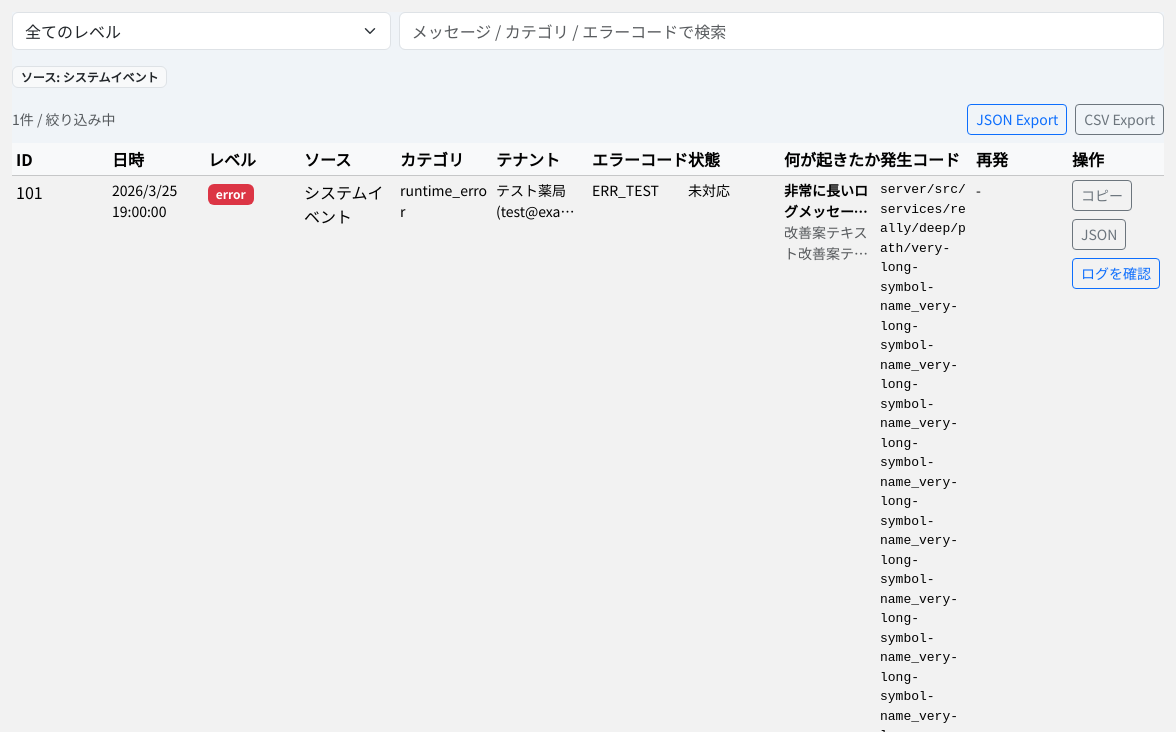
Test: AdminLogCenterPage feedback helpers › shows active filters and can clear local filter controls
Expected: the text "ソース: システムイベント" is shown, [12,66,167,88]
Select "Error" in the dropdown named "レベルで絞り込み" at {"x": 201, "y": 31}, box [12,12,391,50]
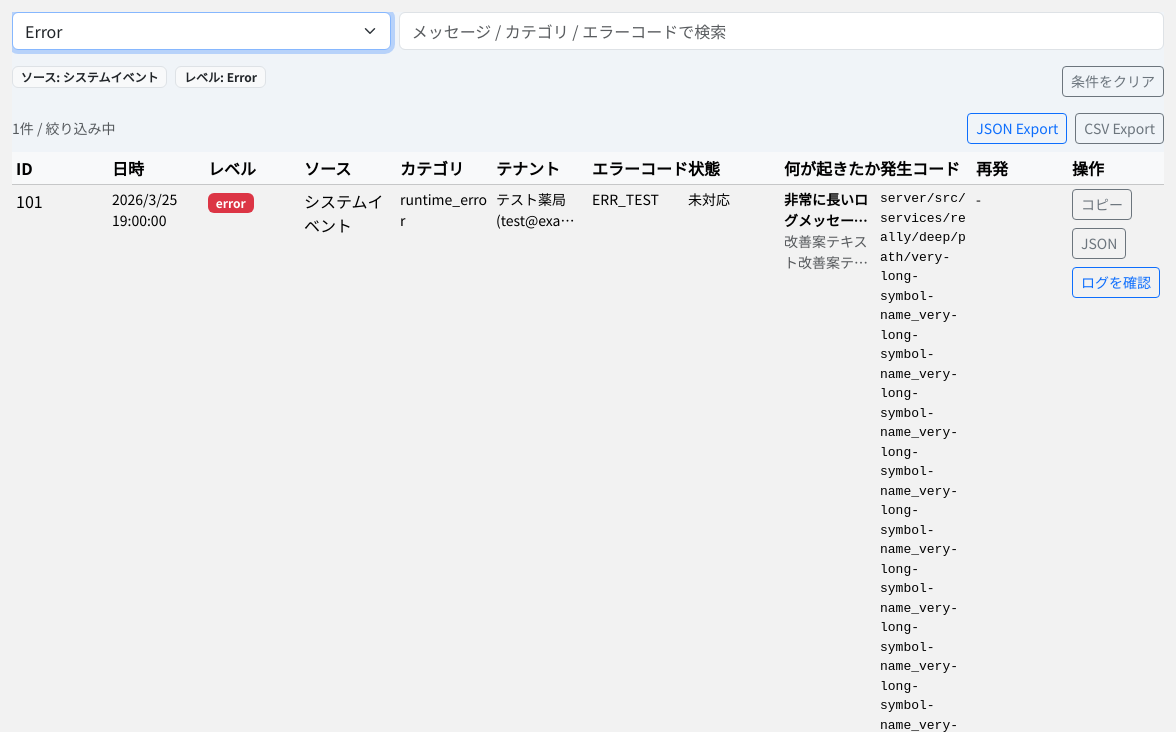
Type "ERR_TEST" into the field with placeholder "メッセージ / カテゴリ / エラーコードで検索" at {"x": 781, "y": 31}, box [399,12,1164,50]
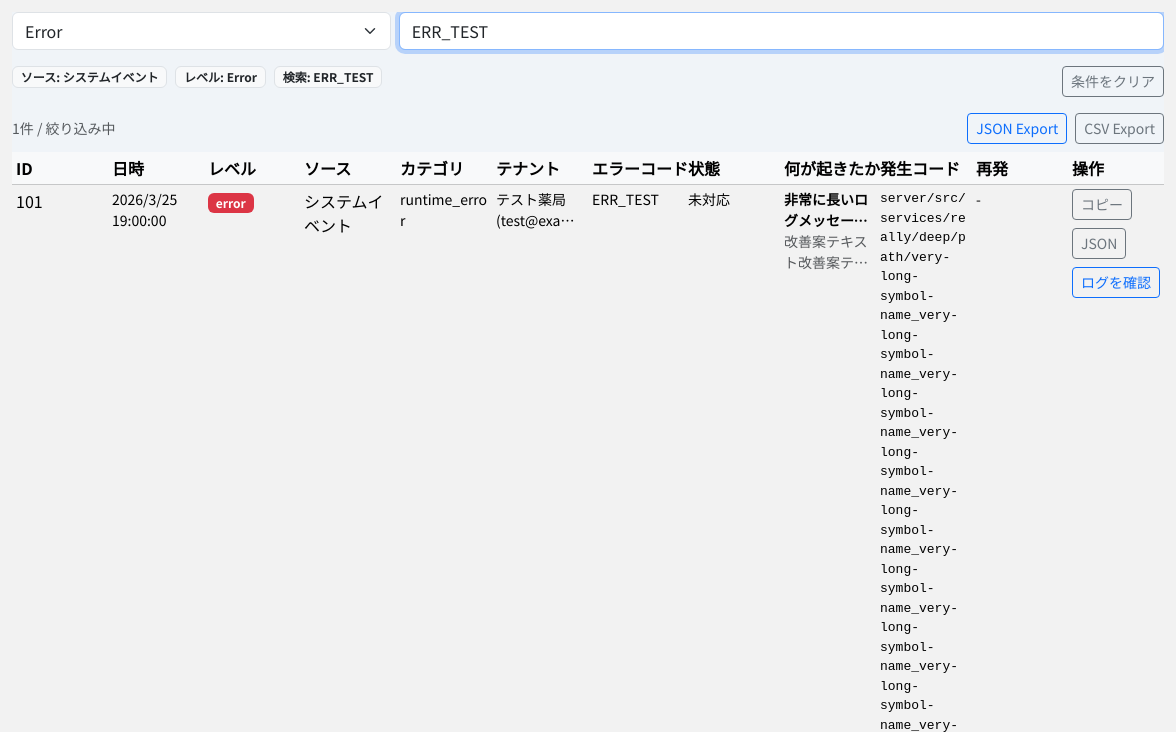
Result: the text "レベル: Error" is shown at [175,66,266,88]
Result: the text "検索: ERR_TEST" is shown at [274,66,382,88]
Click the button "条件をクリア" at {"x": 1113, "y": 82}, box [1062,66,1164,97]
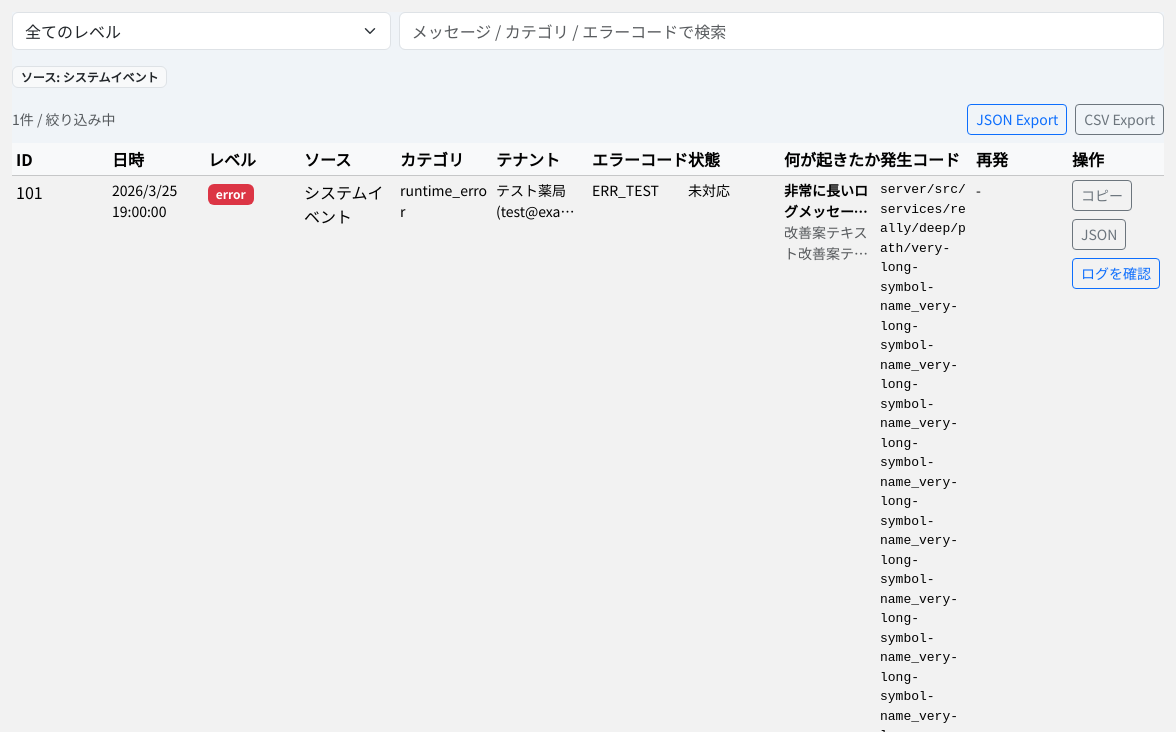
Result: the text "レベル: Error" is gone
Result: the text "検索: ERR_TEST" is gone
